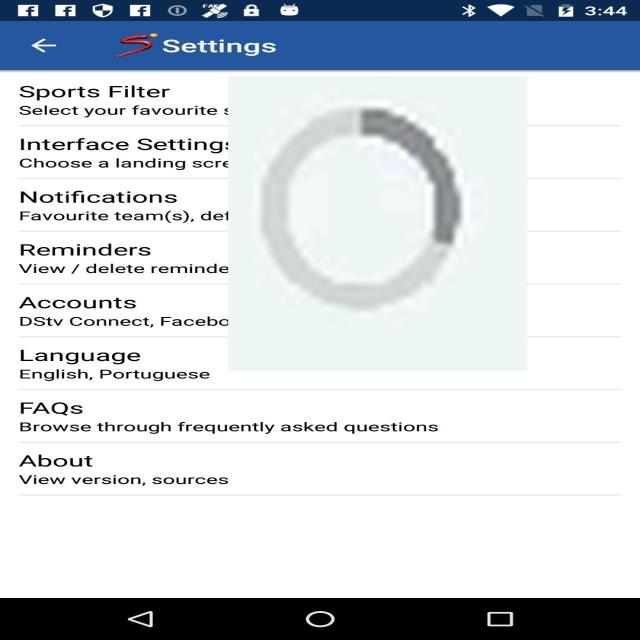misdirection: (228, 76, 528, 371)
